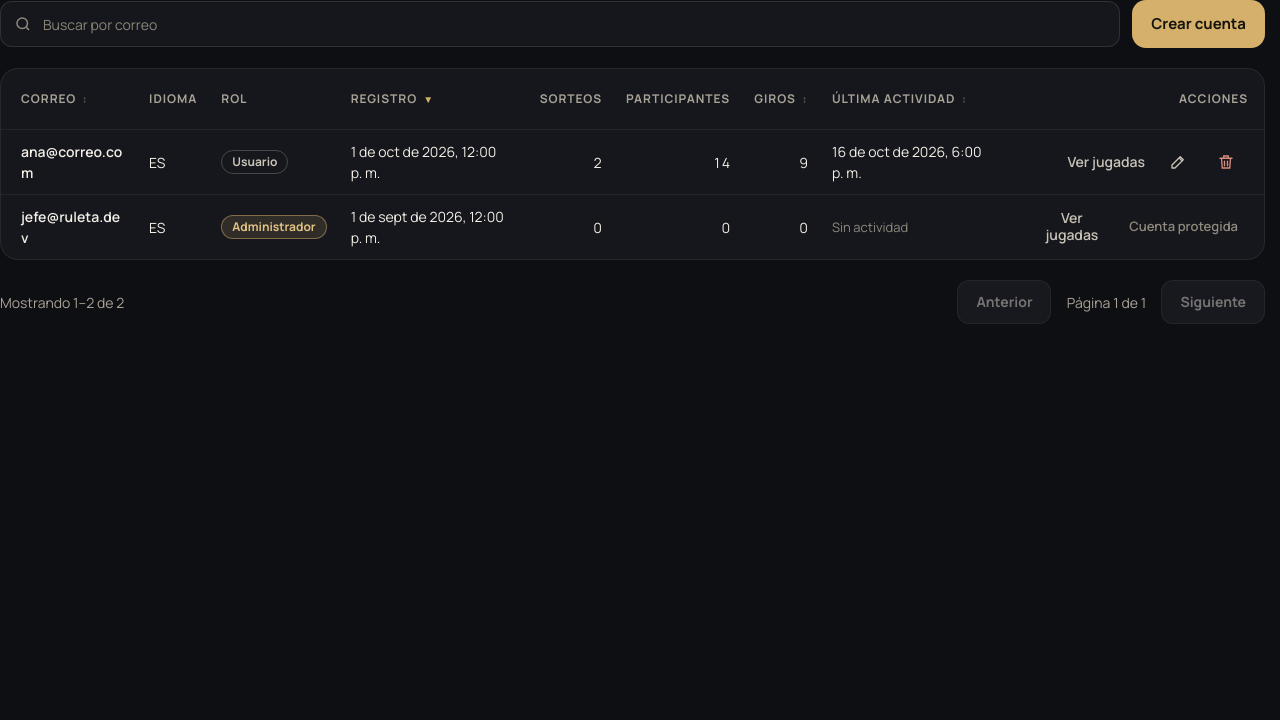
Test: UsersTab (administración) › crea una cuenta USER y la muestra en la tabla
The width and height of the screenshot is (1280, 720).
Expected: the text "ana@correo.com" is shown, 1,130 -> 137,194
Click the button "Crear cuenta": click(1199, 24) 1132,0 -> 1265,48
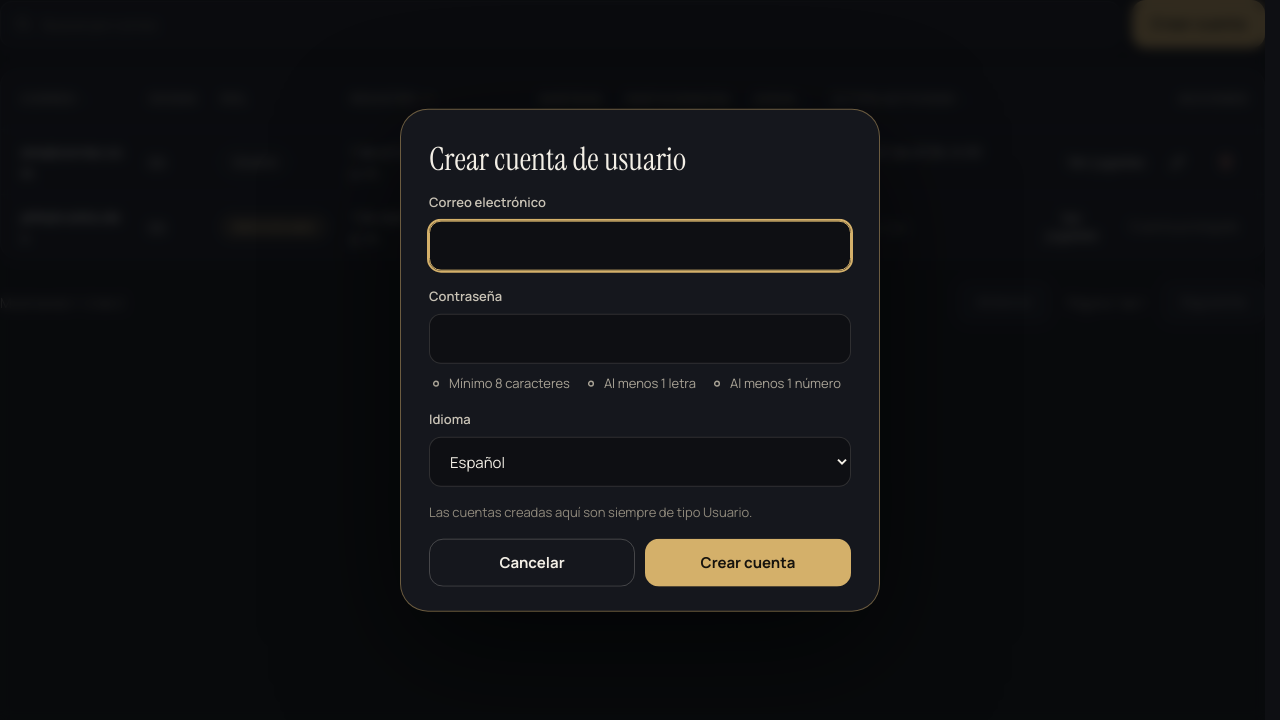
In the field labelled "Correo electrónico": (640, 245) 429,220 -> 851,270, type "nuevo@correo.com"
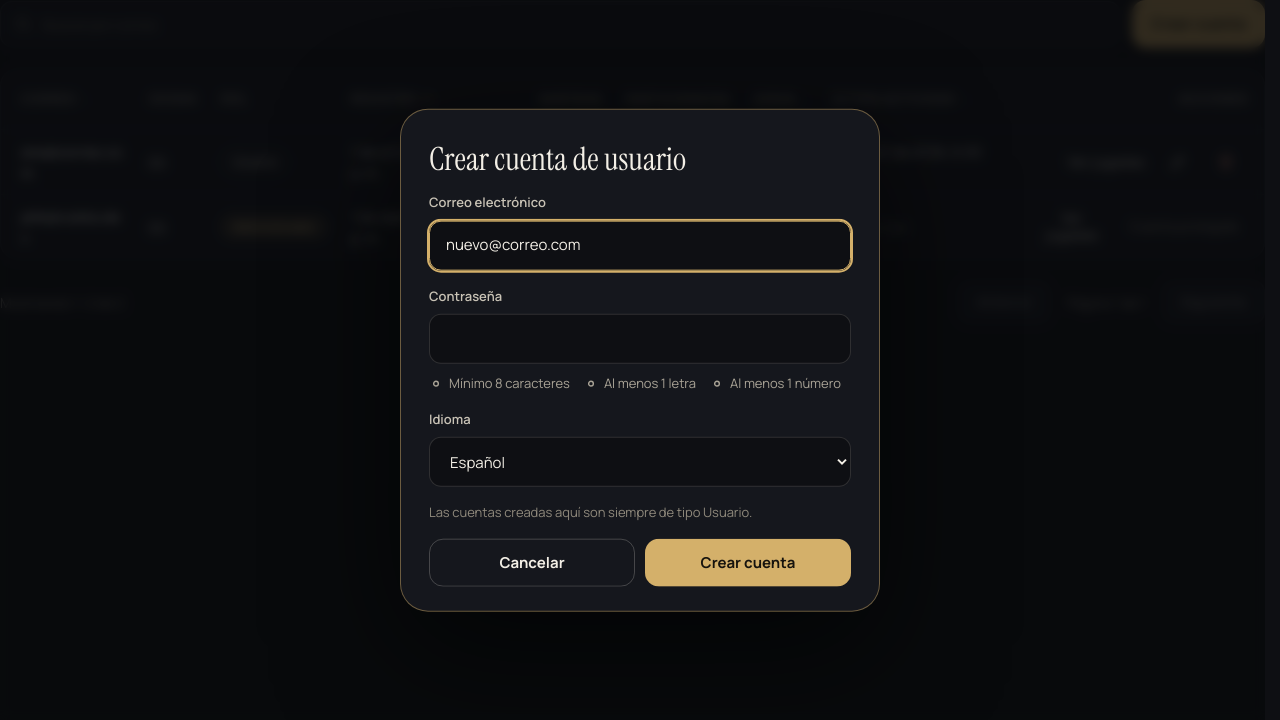
In the password field labelled "Contraseña": (640, 339) 429,314 -> 851,364, type "clave1234"
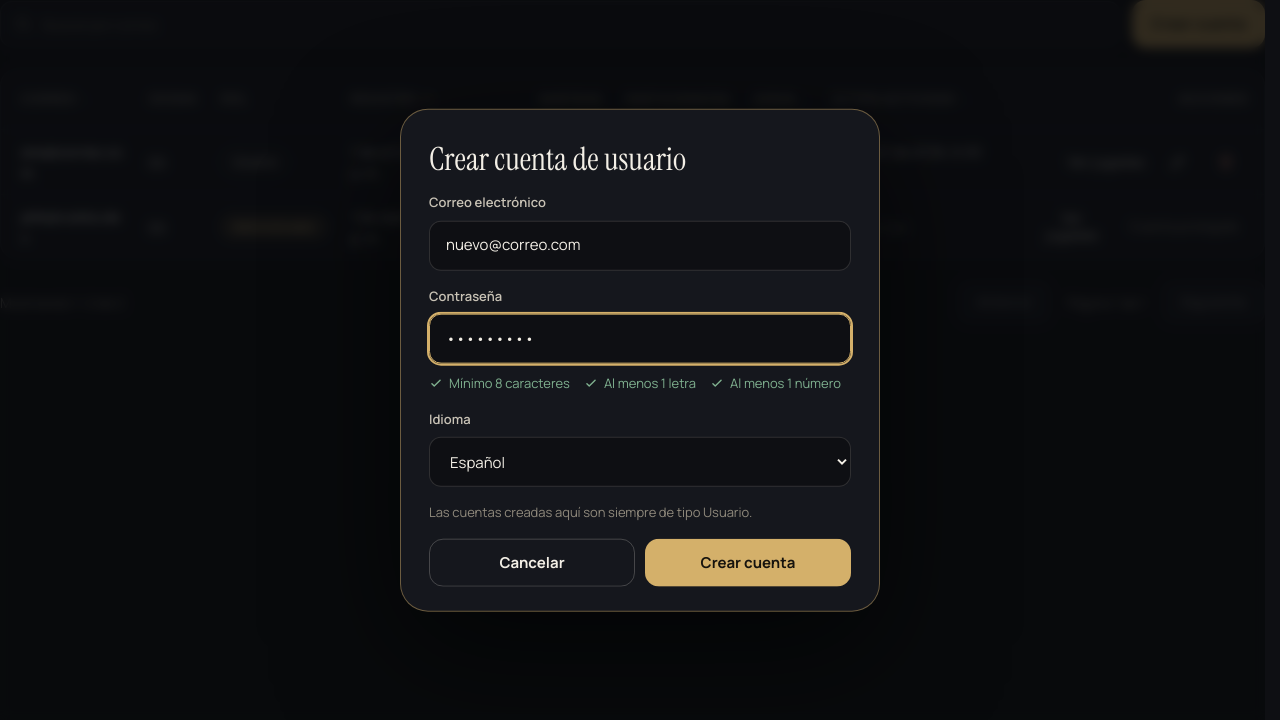
Select "English" in the dropdown labelled "Idioma": (640, 462) 429,437 -> 851,487
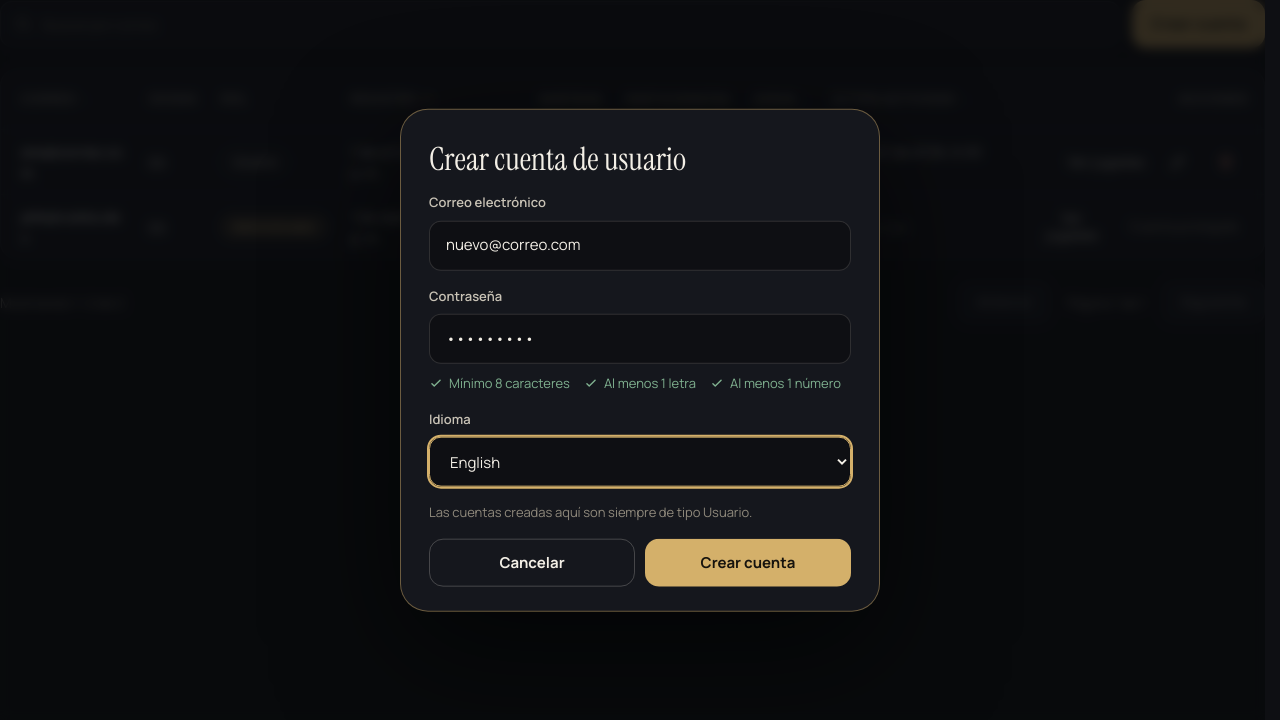
Click the button "Crear cuenta": click(748, 562) 645,538 -> 851,586
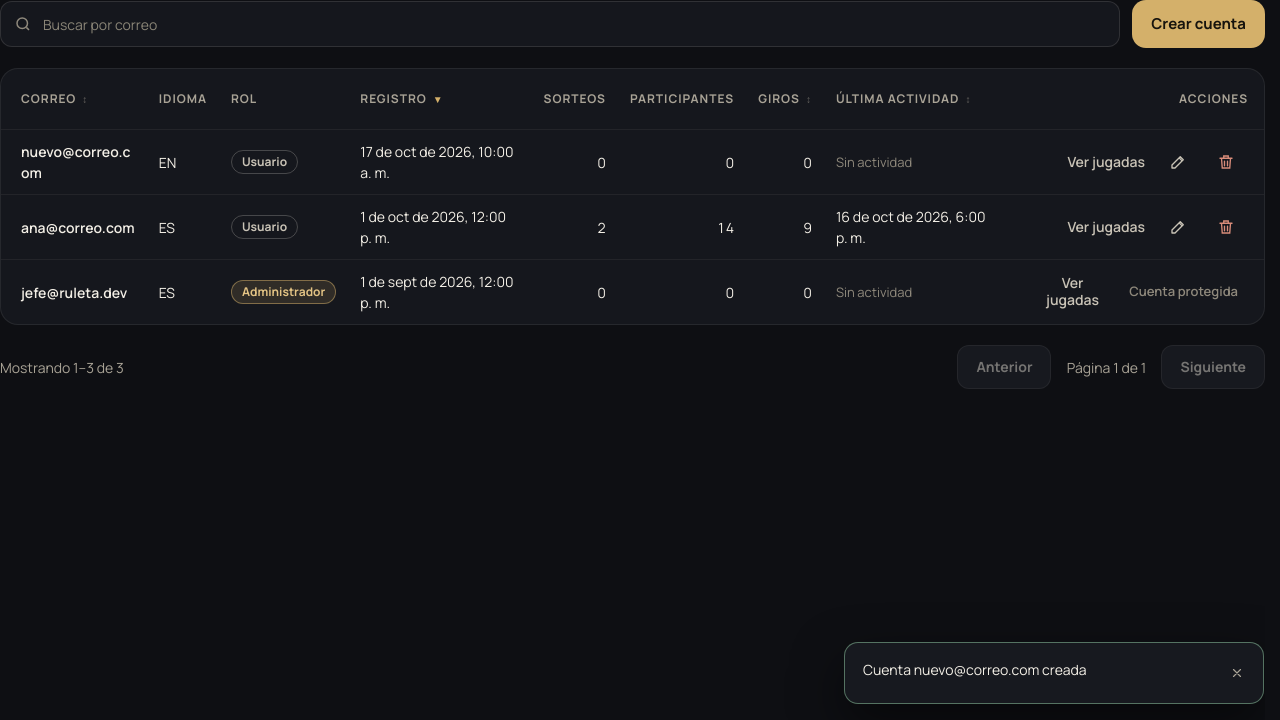
Result: the dialog is gone
Result: the text "nuevo@correo.com" is shown at 1,130 -> 147,194
